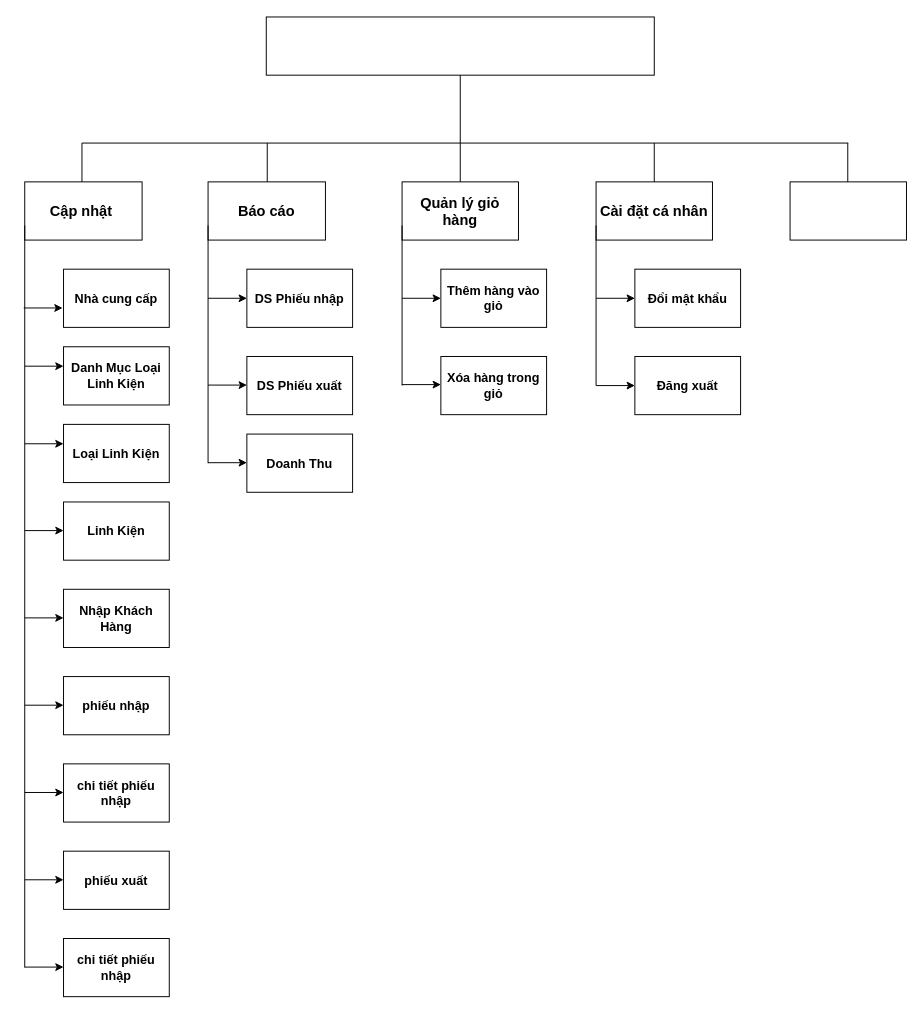
This 923x1014 diagram has some shape labels left out. The centre of each missing label's shape, as x and y in pixels:
Thanh toán: pixel 847 210
Đăng Nhập: pixel 459 45
